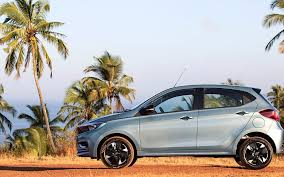Tiago: (72, 81, 284, 177)
